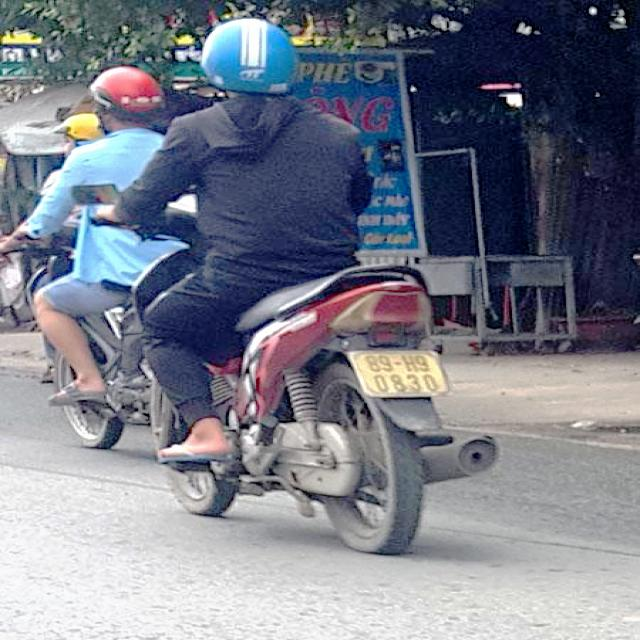license_plate: (348, 352, 452, 395)
